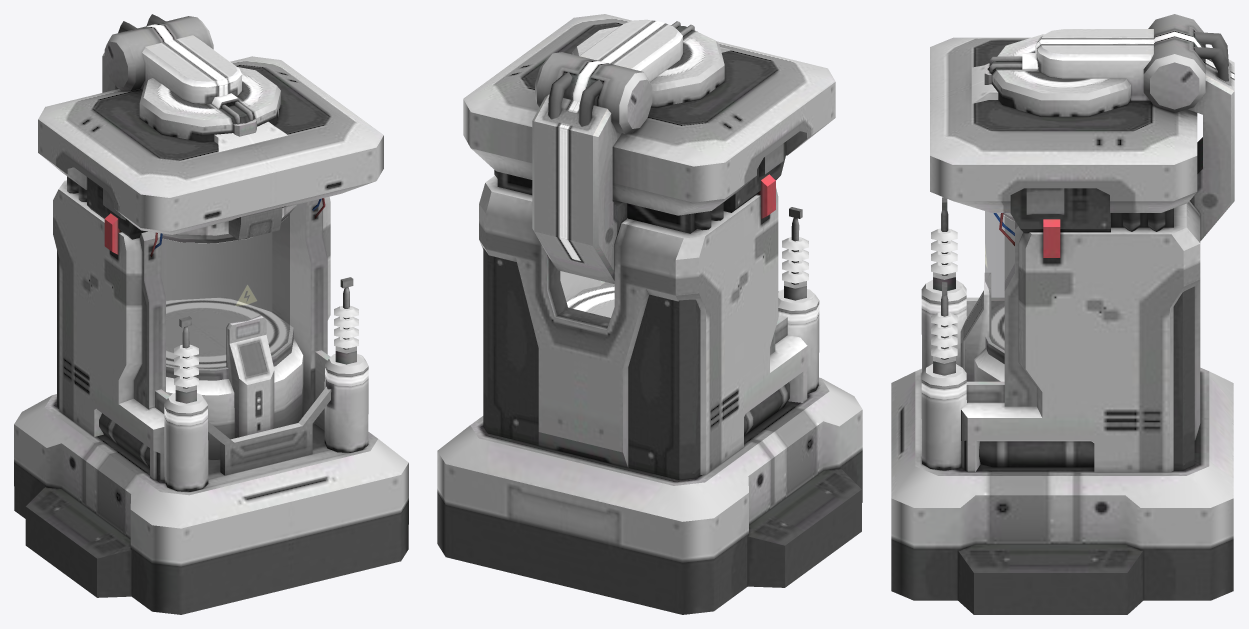
3 renders of one model, left to right at view 1: azimuth 30°, elevation 25°; view 2: azimuth 150°, elevation 25°; view 3: azimuth 270°, elevation 25°, orthographic. The views are drawn at different scales.
Visible parts, largest first — view 1: accumulator; view 2: accumulator; view 3: accumulator.
Part boxes in pixels (box(x1,y1,x2,y2)): accumulator: box(14, 14, 408, 614); accumulator: box(437, 14, 862, 614); accumulator: box(891, 14, 1234, 614).
Bounding box in the file's own units: 3.2 × 4.57 × 2.85.
2 materials, 2 textured.
